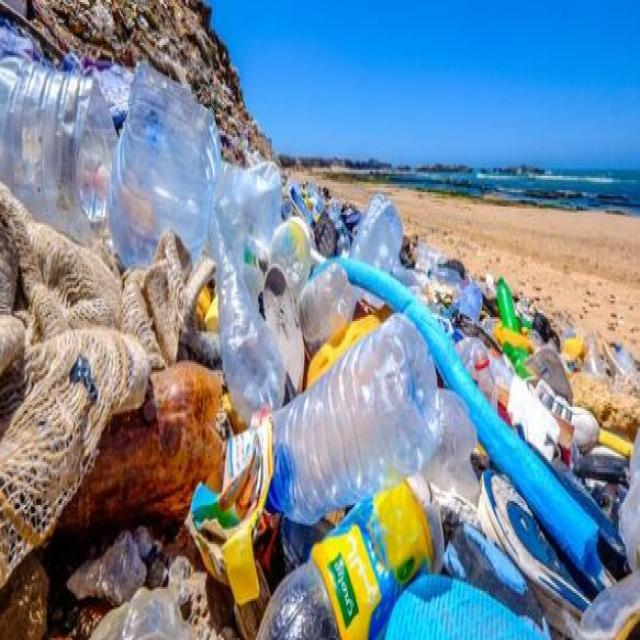general: (255, 474, 442, 638), (270, 316, 439, 462)
